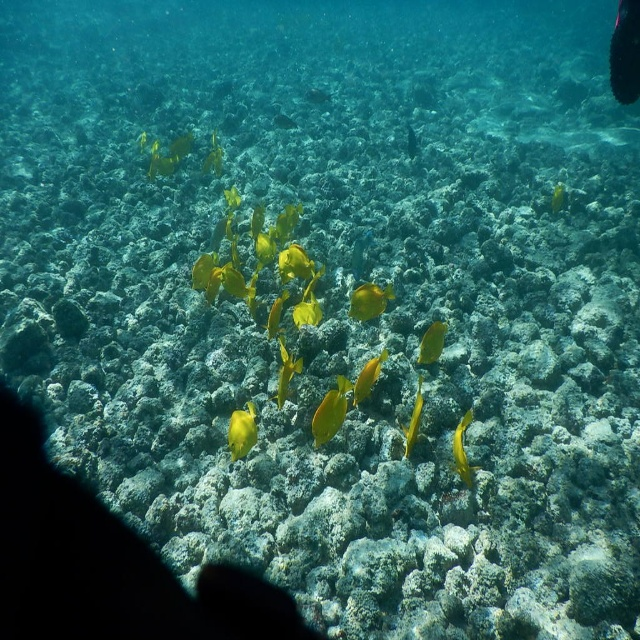Fish: (139, 88, 564, 489)
